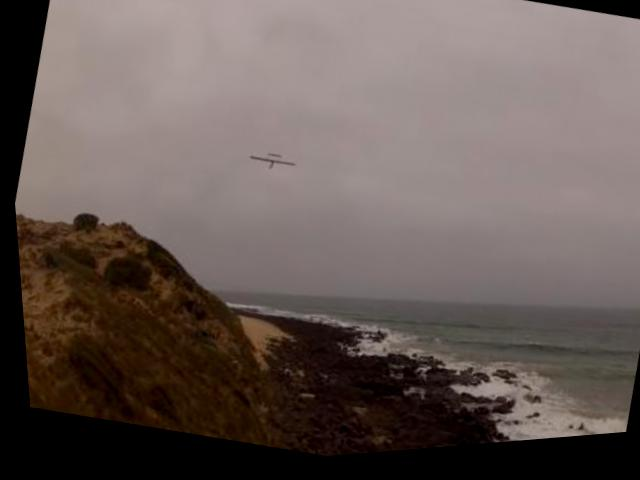uav: (234, 141, 304, 192)
